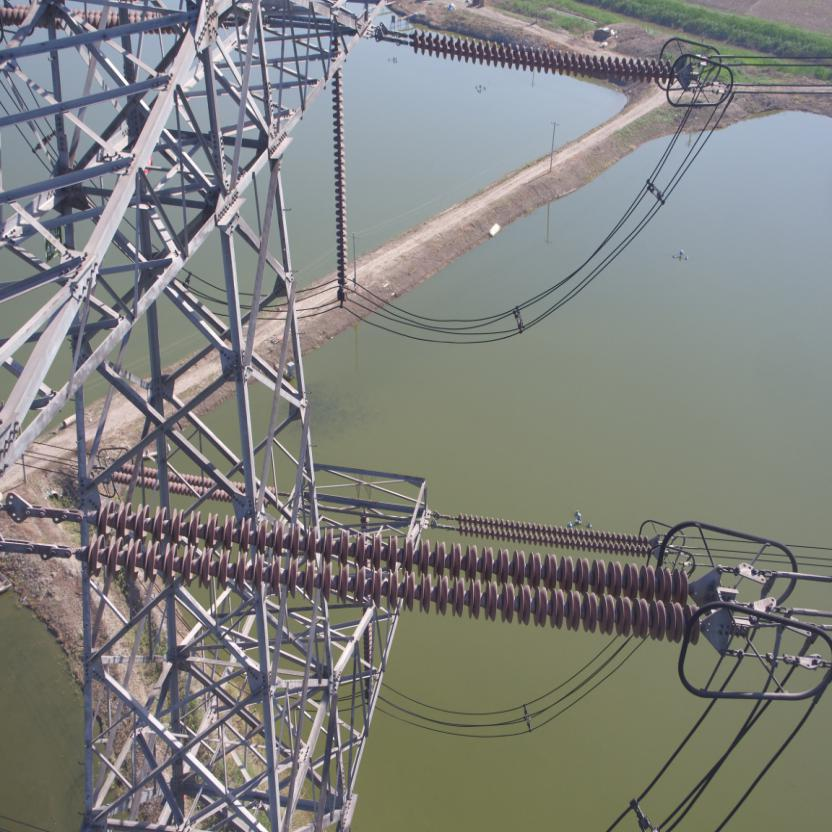insulator: (50, 497, 708, 646), (396, 26, 681, 86), (445, 510, 653, 559)
